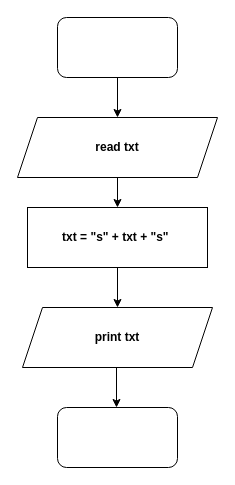
Some shapes in this 235 by 485 pixel diagram are drawn without their labels. The centre of each missing label's shape, as x and y in pixels:
START: (x=117, y=47)
Stop: (x=117, y=437)
